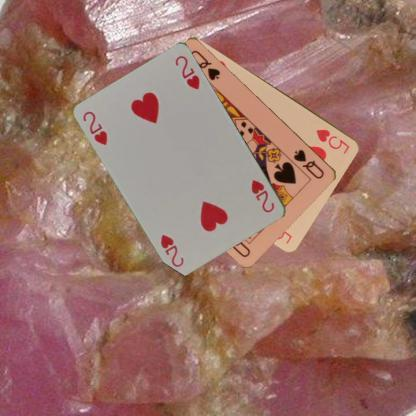2h: (80, 108, 110, 146), (249, 178, 276, 214)
5h: (314, 126, 351, 155)
Qs: (291, 147, 326, 180)
